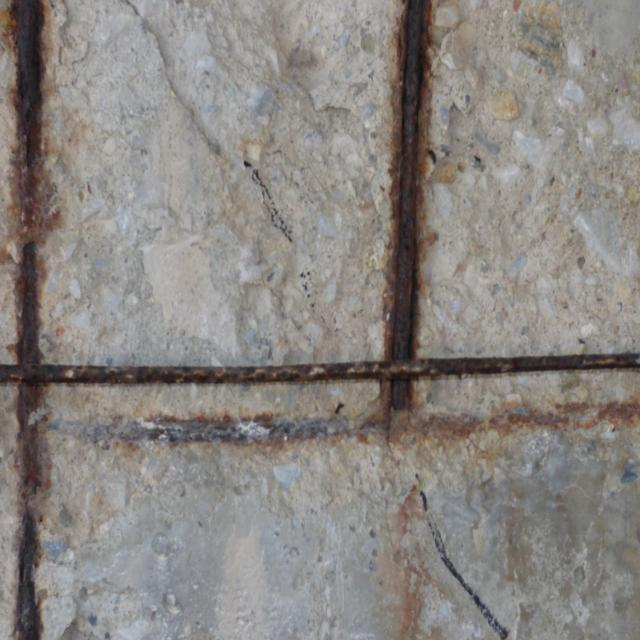corrosion: (0, 337, 640, 452), (0, 11, 59, 640), (382, 0, 432, 640)
